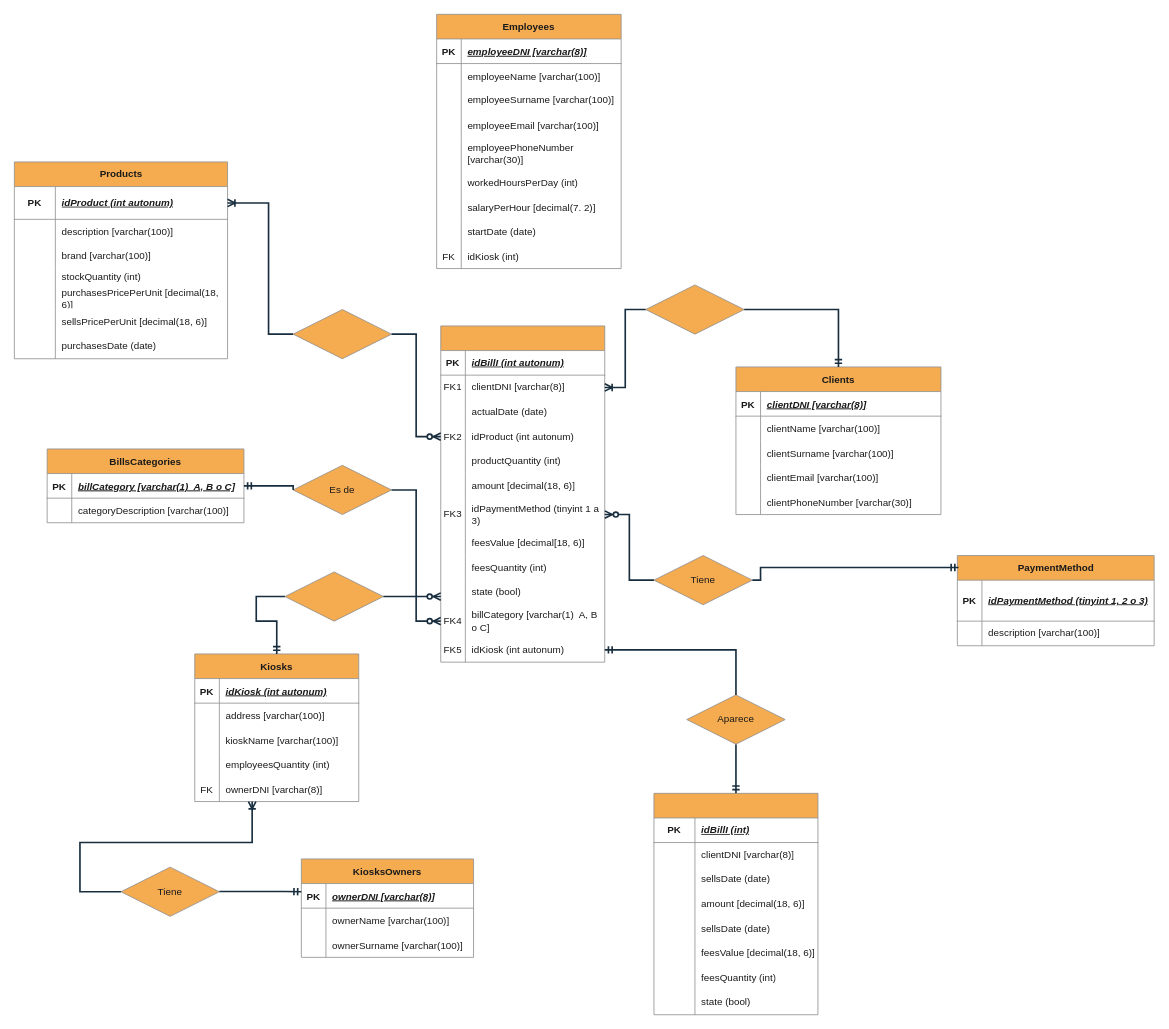
Some shapes in this 1169 by 1029 pixel diagram are drawn without their labels. The box of each missing label's shape, as (x1, y1, x2, y2) in pixels:
Bills: (440, 325, 605, 662)
Compra: (645, 284, 744, 334)
CreditFees: (653, 793, 818, 1015)
Se compone de: (292, 309, 392, 359)
Vende: (284, 571, 383, 621)
